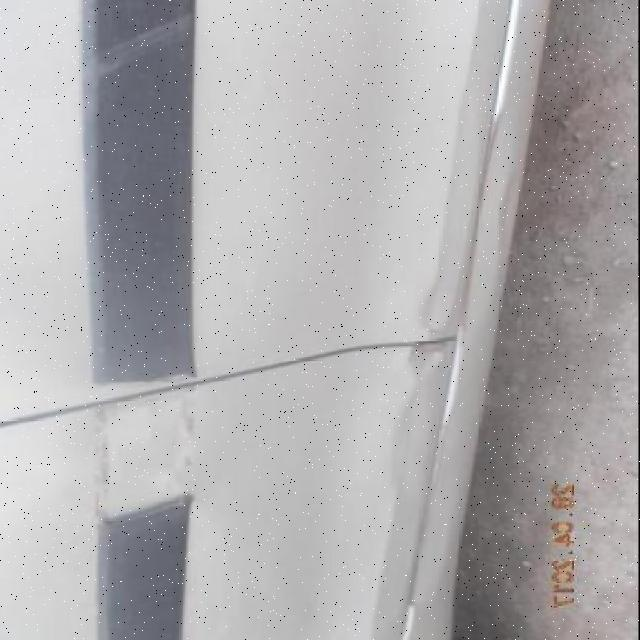damage: (92, 378, 201, 524), (398, 384, 420, 513), (417, 271, 462, 331), (404, 344, 446, 377)
